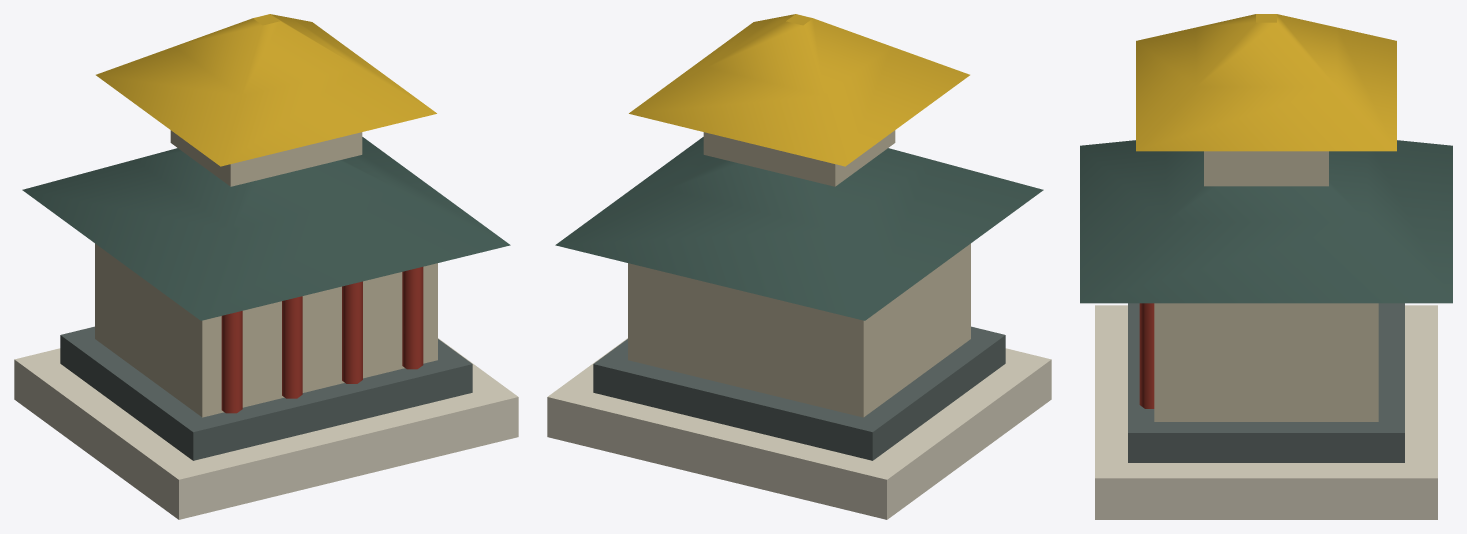
File: zong_zhu_da_dian.glb
3 renders of one model, left to right at view 1: azimuth 30°, elevation 25°; view 2: azimuth 150°, elevation 25°; view 3: azimuth 270°, elevation 25°, orthographic. The views are drawn at different scales.
Visible parts, largest first — view 1: _MeshInstance3D_69, _MeshInstance3D_62, _MeshInstance3D_71, _MeshInstance3D_64, _MeshInstance3D_63, _MeshInstance3D_70, _MeshInstance3D_68, _MeshInstance3D_65, _MeshInstance3D_66, _MeshInstance3D_67; view 2: _MeshInstance3D_69, _MeshInstance3D_64, _MeshInstance3D_62, _MeshInstance3D_71, _MeshInstance3D_63, _MeshInstance3D_70; view 3: _MeshInstance3D_69, _MeshInstance3D_71, _MeshInstance3D_62, _MeshInstance3D_64, _MeshInstance3D_63, _MeshInstance3D_70, _MeshInstance3D_68.
Boxes of the visible parts, bbox=[...] form: _MeshInstance3D_69: bbox=[22, 137, 510, 320]; _MeshInstance3D_62: bbox=[14, 338, 518, 519]; _MeshInstance3D_71: bbox=[96, 14, 436, 166]; _MeshInstance3D_64: bbox=[95, 243, 437, 417]; _MeshInstance3D_63: bbox=[60, 326, 472, 460]; _MeshInstance3D_70: bbox=[170, 130, 362, 186]; _MeshInstance3D_68: bbox=[402, 267, 423, 369]; _MeshInstance3D_65: bbox=[221, 311, 242, 413]; _MeshInstance3D_66: bbox=[282, 296, 302, 398]; _MeshInstance3D_67: bbox=[342, 281, 362, 383]; _MeshInstance3D_69: bbox=[555, 137, 1043, 320]; _MeshInstance3D_64: bbox=[628, 243, 970, 417]; _MeshInstance3D_62: bbox=[547, 338, 1051, 519]; _MeshInstance3D_71: bbox=[629, 14, 969, 166]; _MeshInstance3D_63: bbox=[593, 326, 1005, 460]; _MeshInstance3D_70: bbox=[703, 130, 895, 186]; _MeshInstance3D_69: bbox=[1080, 140, 1452, 303]; _MeshInstance3D_71: bbox=[1136, 14, 1396, 151]; _MeshInstance3D_62: bbox=[1095, 305, 1437, 519]; _MeshInstance3D_64: bbox=[1154, 303, 1378, 421]; _MeshInstance3D_63: bbox=[1128, 303, 1404, 462]; _MeshInstance3D_70: bbox=[1204, 151, 1328, 186]; _MeshInstance3D_68: bbox=[1139, 303, 1154, 408].
Bounding box in the file's own units: 1.24 × 1.39 × 1.13.
